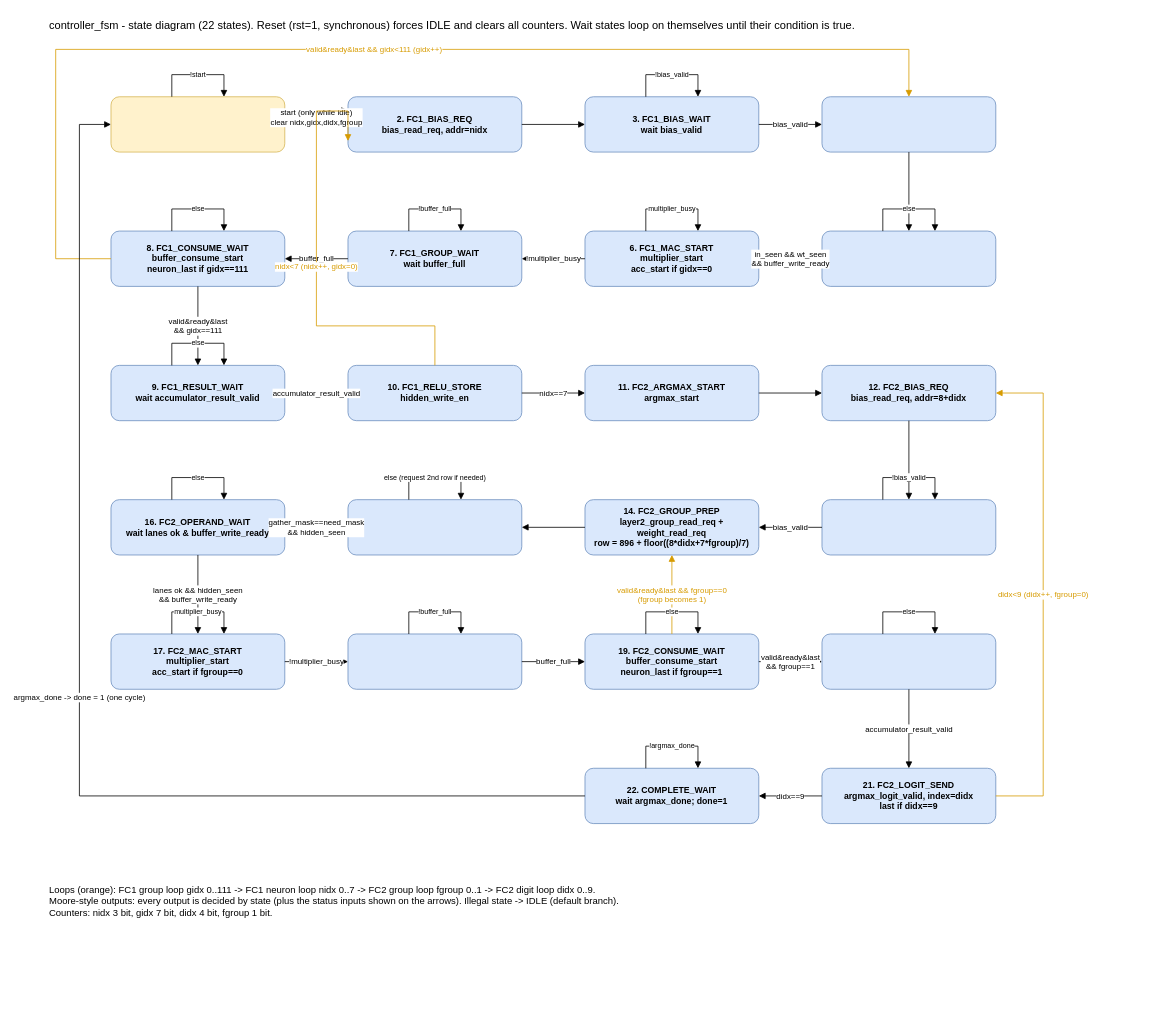
Some shapes in this 1168 by 1010 pixel diagram are drawn without their labels. The shapes that lost their labels are listed below. From the top down, each one's centre as x and y in pixels, then its label:
At [197,124]: "1. IDLE wait for start".
At [908,124]: "4. FC1_INPUT_WEIGHT_REQ input_read_req + weight_read_req row = nidx*112 + gidx".
At [908,258]: "5. FC1_OPERAND_WAIT wait in_seen & wt_seen & buffer_write_ready".
At [434,527]: "15. FC2_GATHER_WAIT gather lanes (<= 2 rows) wait hidden_seen".
At [908,527]: "13. FC2_BIAS_WAIT wait bias_valid".
At [434,661]: "18. FC2_GROUP_WAIT wait buffer_full".
At [908,661]: "20. FC2_RESULT_WAIT wait accumulator_result_valid".
